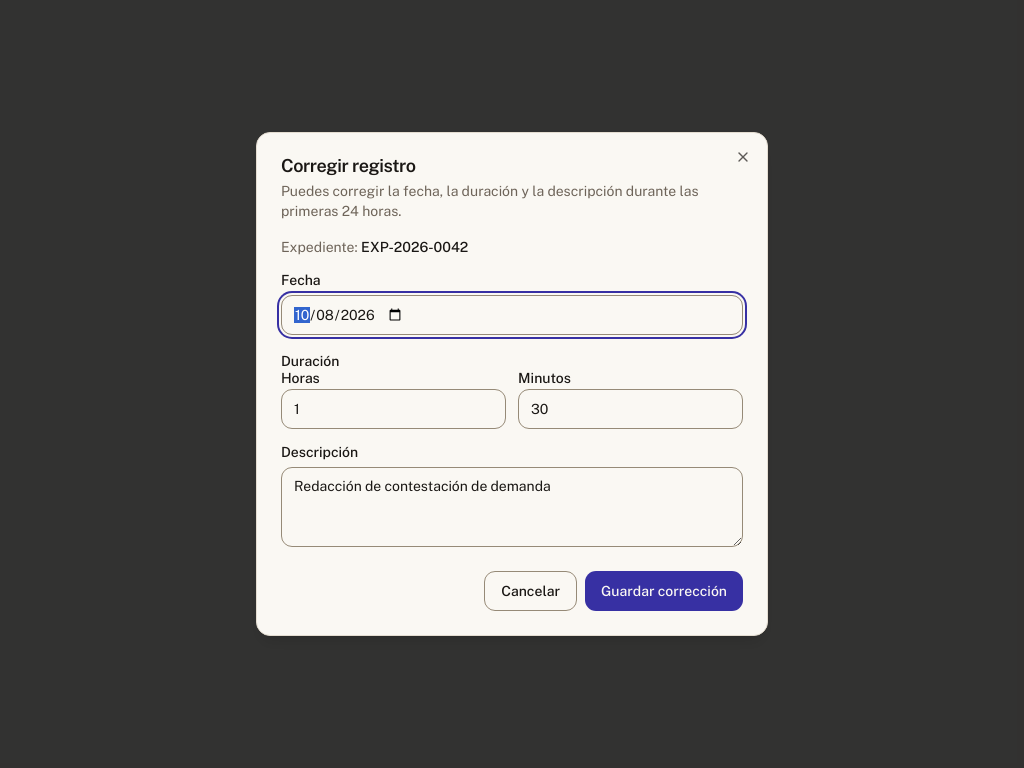
Test: LogTimeDialog › correcting (US4) › explains a closed window in Spanish
Type " (revisado)" into the text box labelled "Descripción". click: (512, 507)
box: [281,467,743,547]
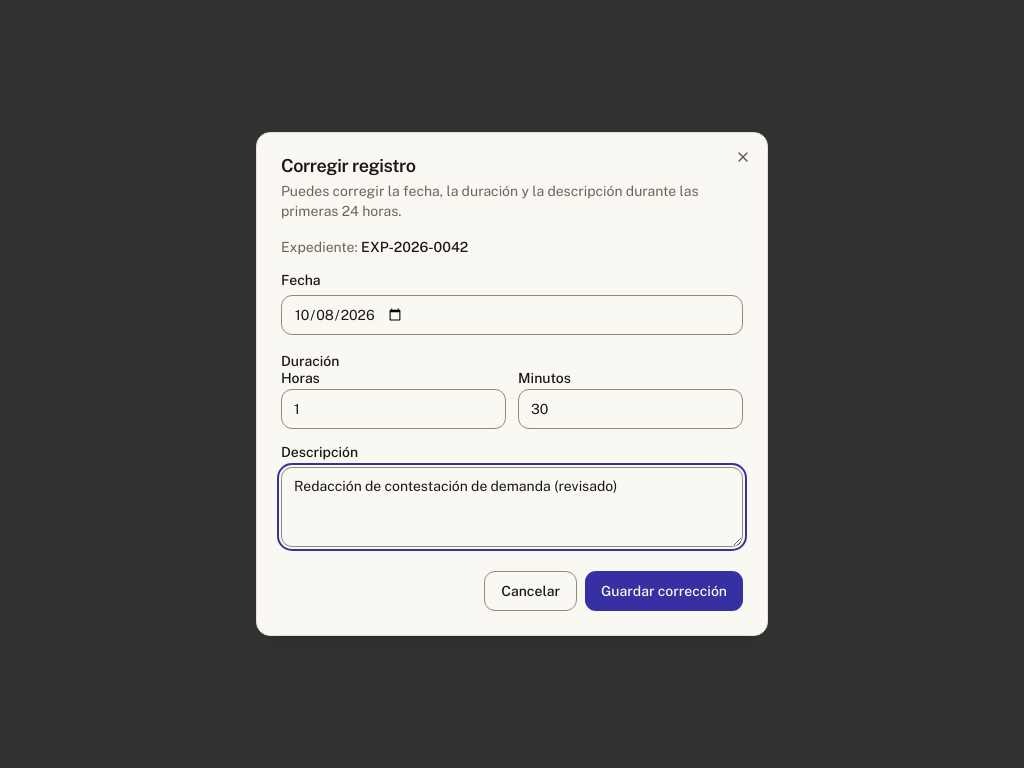
Click the button "Guardar corrección". click: (664, 591)
box: [585,571,743,611]
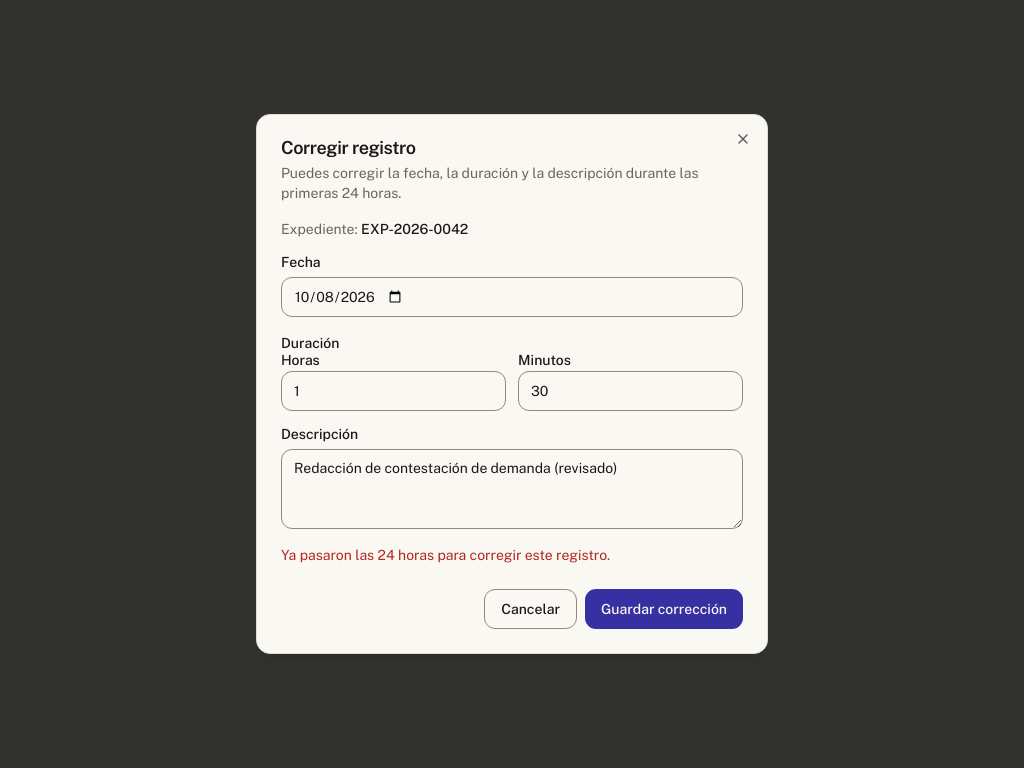
Expected: the text "Ya pasaron las 24 horas para corregir este registro." is shown, [281,547,610,563]
